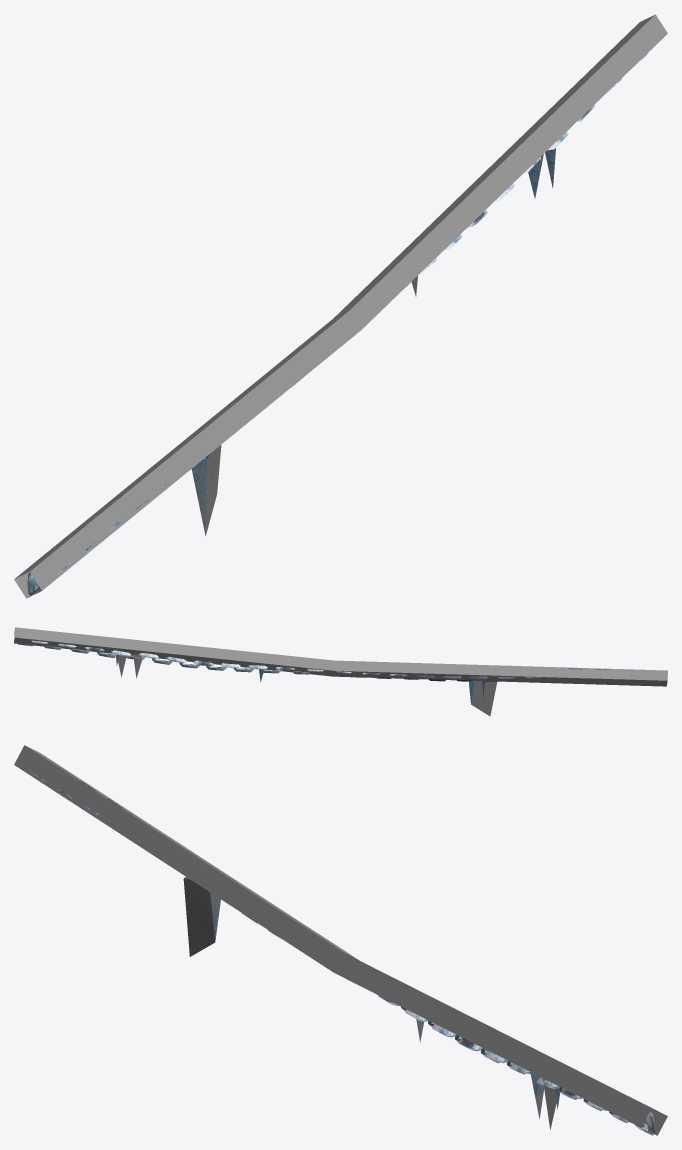
File: Scene_Build_TianShan_SuoLian_1c.FBX
The picture shows the model from 3 angles, top to bottom: view 1: azimuth 30°, elevation 25°; view 2: azimuth 150°, elevation 25°; view 3: azimuth 270°, elevation 25°; orthographic projection. The views are drawn at different scales.
Parts seen in each view (by area): view 1: Scene_Build_TianShan_SuoLian_1c_Xzm, Scene_Build_TianShan_SuoLian_1c; view 2: Scene_Build_TianShan_SuoLian_1c_Xzm, Scene_Build_TianShan_SuoLian_1c; view 3: Scene_Build_TianShan_SuoLian_1c_Xzm, Scene_Build_TianShan_SuoLian_1c.
Part boxes in pixels (<box>): Scene_Build_TianShan_SuoLian_1c_Xzm: <box>14,14,667,598</box>; Scene_Build_TianShan_SuoLian_1c: <box>27,52,648,595</box>; Scene_Build_TianShan_SuoLian_1c_Xzm: <box>14,627,667,716</box>; Scene_Build_TianShan_SuoLian_1c: <box>18,640,667,702</box>; Scene_Build_TianShan_SuoLian_1c_Xzm: <box>14,745,667,1135</box>; Scene_Build_TianShan_SuoLian_1c: <box>31,769,654,1135</box>.
Size of the model in its own units: 3873 by 693 by 2346.
